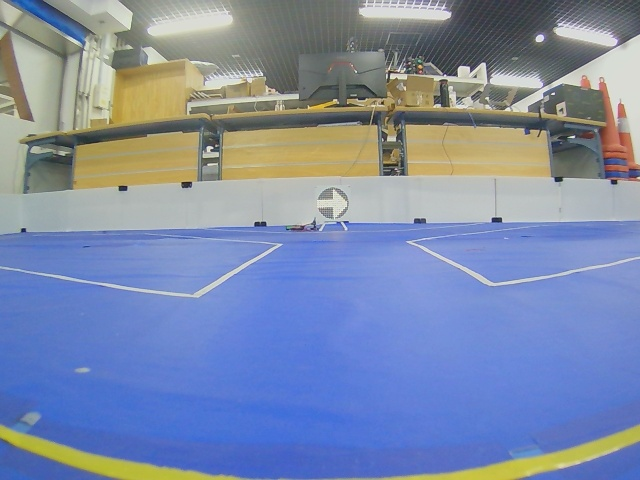right_yellow: (316, 187, 350, 221)
